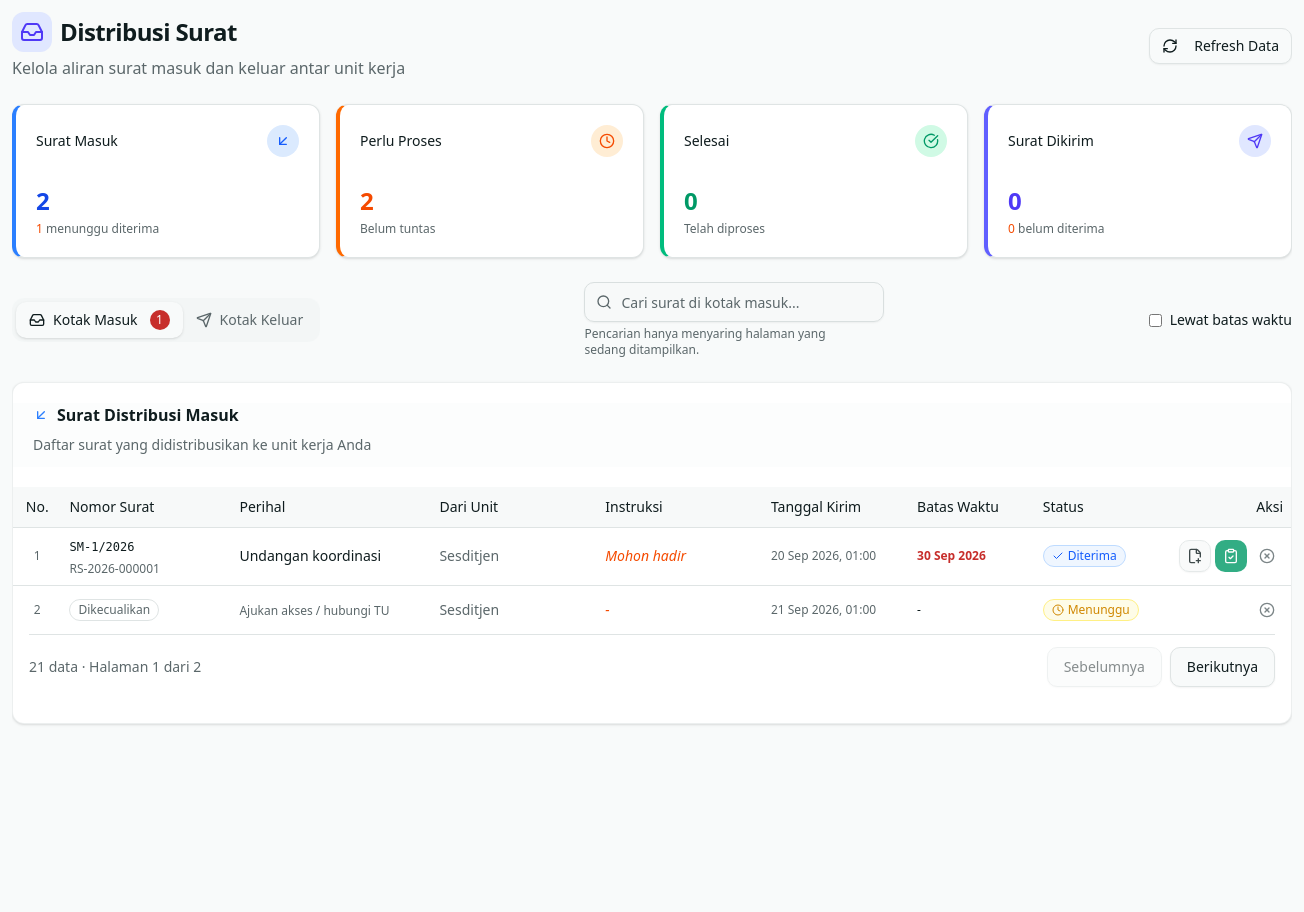
it: Kotak Disposisi › kotak masuk dapat dibuka sampai halaman berikutnya tanpa memuat ulang kotak keluar
The width and height of the screenshot is (1304, 912).
Expected: the link "SM-1/2026" is shown, x1=70 y1=540 x2=134 y2=554
Expected: the text "21 data · Halaman 1 dari 2" is shown, x1=29 y1=657 x2=201 y2=677
Click the button "Berikutnya": click(1222, 667) x1=1170 y1=647 x2=1275 y2=687
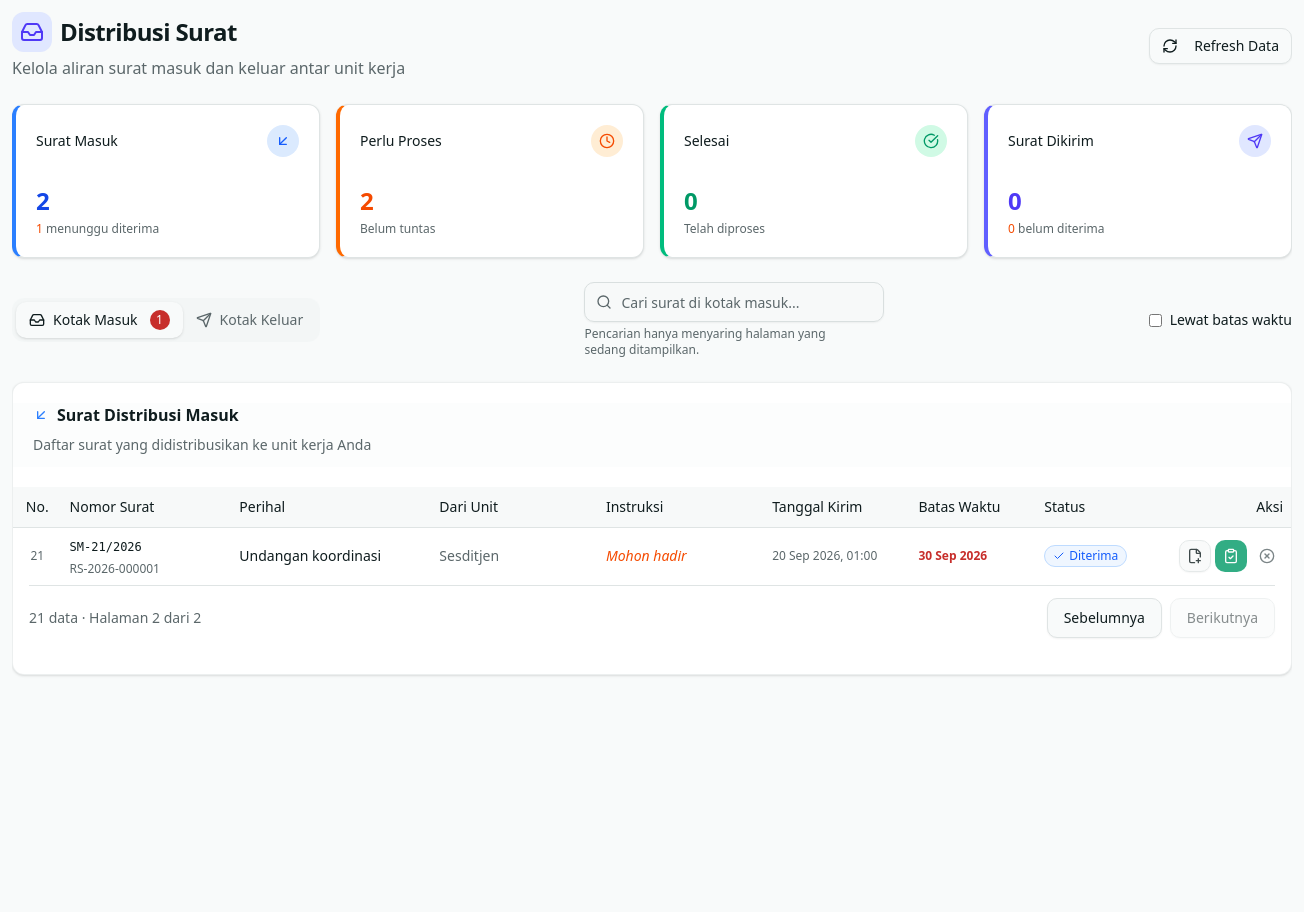
Now the link "SM-21/2026" is shown, box x1=70 y1=540 x2=142 y2=554
Now the text "21" is shown, box x1=13 y1=527 x2=62 y2=585
